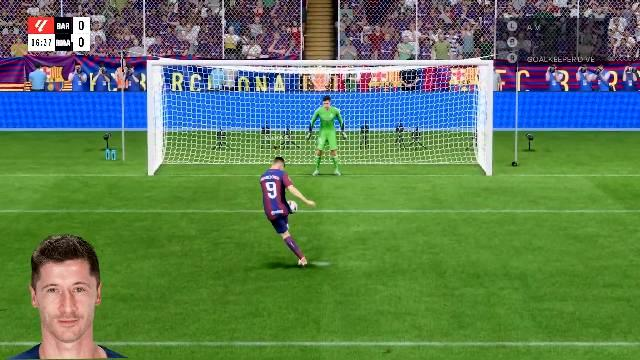bottom-left: (156, 126, 288, 172)
bottom-right: (372, 142, 486, 172)
center-down: (282, 127, 378, 176)
goalkeeper: (302, 100, 366, 176)
player: (252, 156, 320, 272)
top-right: (328, 69, 490, 123)
